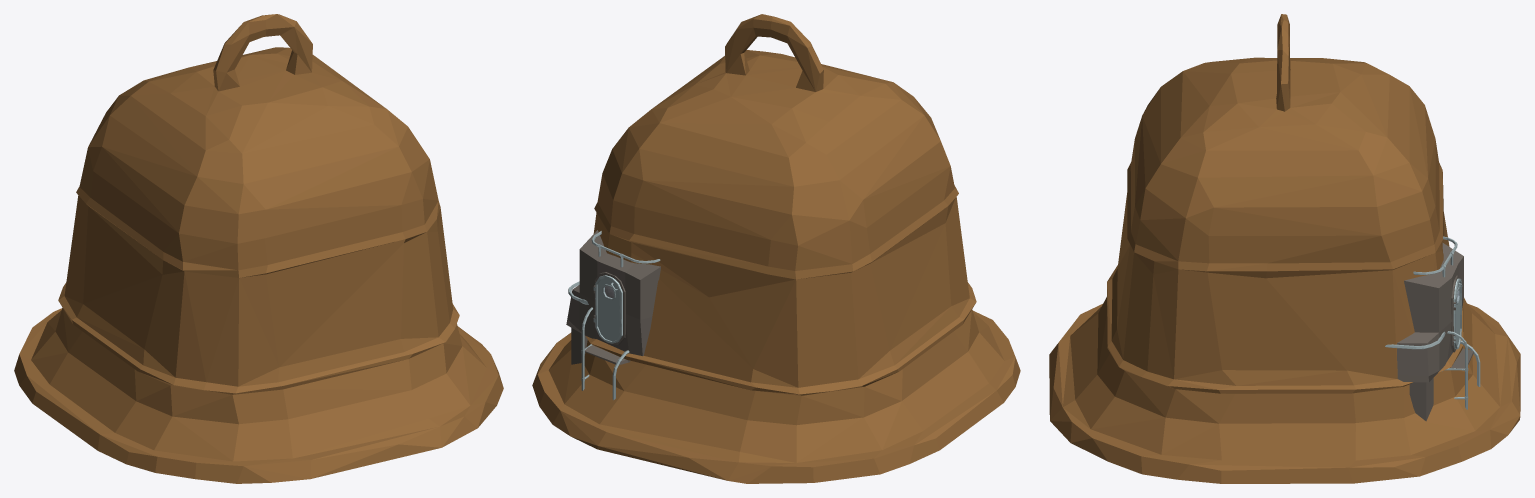
The model's file is BellExt.fbx.
The picture shows the model from 3 angles, left to right: view 1: azimuth 30°, elevation 25°; view 2: azimuth 150°, elevation 25°; view 3: azimuth 270°, elevation 25°; orthographic projection.
Parts seen in each view (by area): view 1: Rack.005; view 2: Rack.005; view 3: Rack.005.
Boxes of the visible parts, <box> form: Rack.005: <box>14,14,503,483</box>; Rack.005: <box>532,14,1020,483</box>; Rack.005: <box>1049,14,1520,483</box>.
Size of the model in its own units: 1247 by 1283 by 1112.
